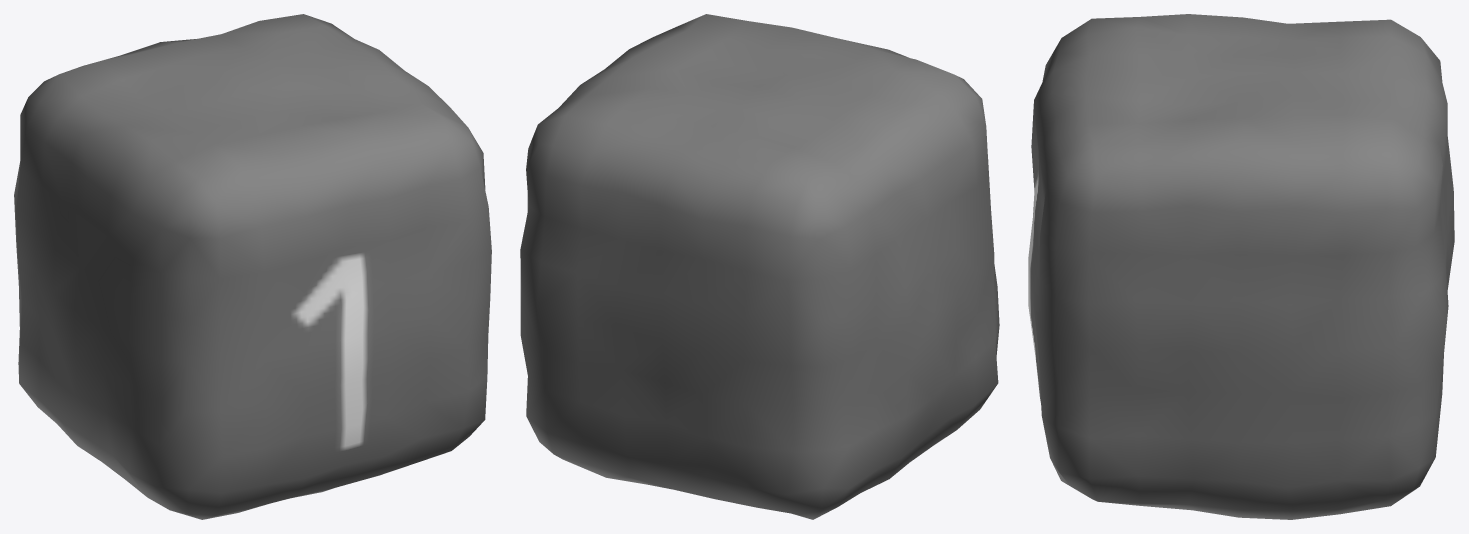
File: stone_cube.glb
3 views of the same model, side by side, from view 1: azimuth 30°, elevation 25°; view 2: azimuth 150°, elevation 25°; view 3: azimuth 270°, elevation 25° (orthographic). The views are drawn at different scales.
Parts seen in each view (by area): view 1: StoneCube; view 2: StoneCube; view 3: StoneCube.
Part boxes in pixels (x1,y1,x2,y2): StoneCube: (14, 14, 491, 519); StoneCube: (520, 14, 999, 519); StoneCube: (1028, 14, 1454, 519).
Size of the model in its own units: 1 by 1 by 1.
1 material, 1 textured.
